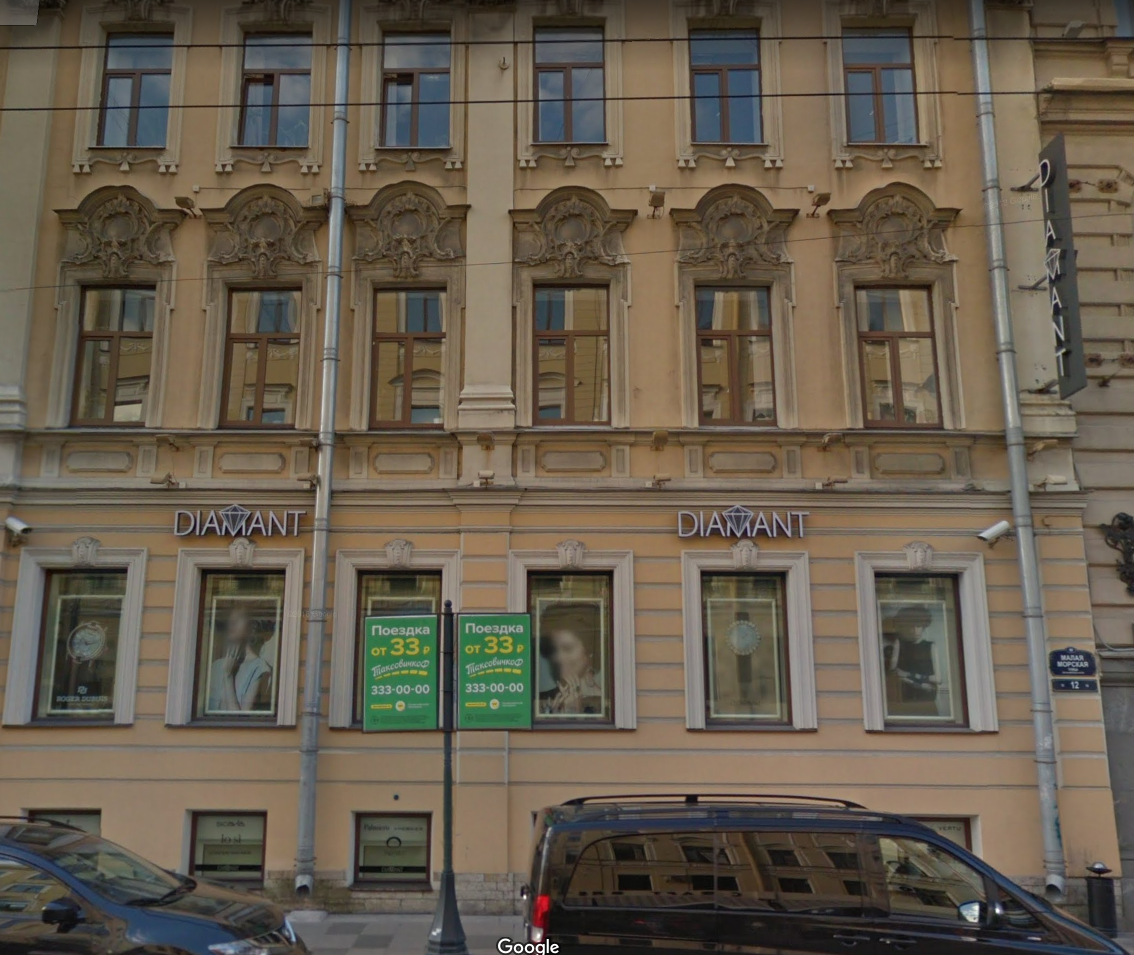cantilever: (1007, 128, 1094, 409)
signboard: (669, 497, 824, 555), (162, 494, 316, 546)
window: (695, 558, 795, 733), (522, 564, 622, 736), (848, 275, 957, 427), (189, 554, 282, 727), (878, 564, 971, 728), (32, 561, 122, 723), (350, 274, 442, 425), (526, 281, 618, 432), (692, 285, 783, 429), (68, 277, 152, 429), (218, 274, 299, 426), (373, 29, 451, 150), (97, 25, 175, 144), (236, 29, 312, 150), (694, 26, 762, 148), (540, 20, 605, 144), (846, 23, 910, 145)
